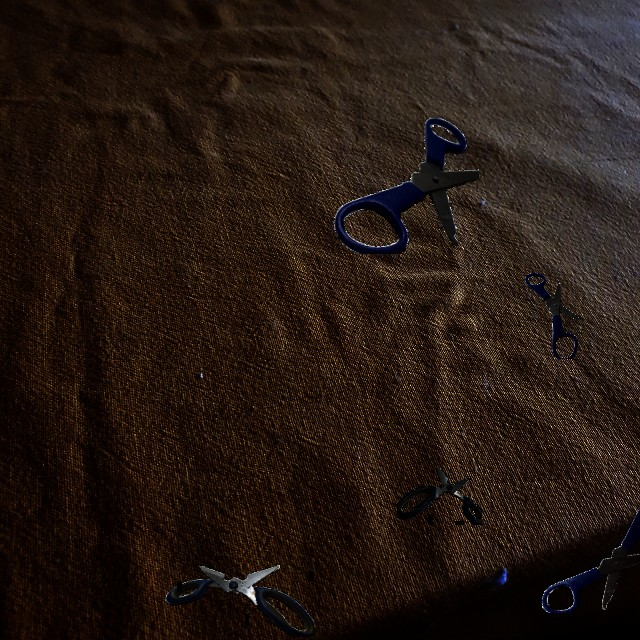scissors: (333, 117, 479, 254), (541, 497, 640, 613), (165, 565, 314, 637), (397, 468, 482, 525), (525, 273, 579, 359)
